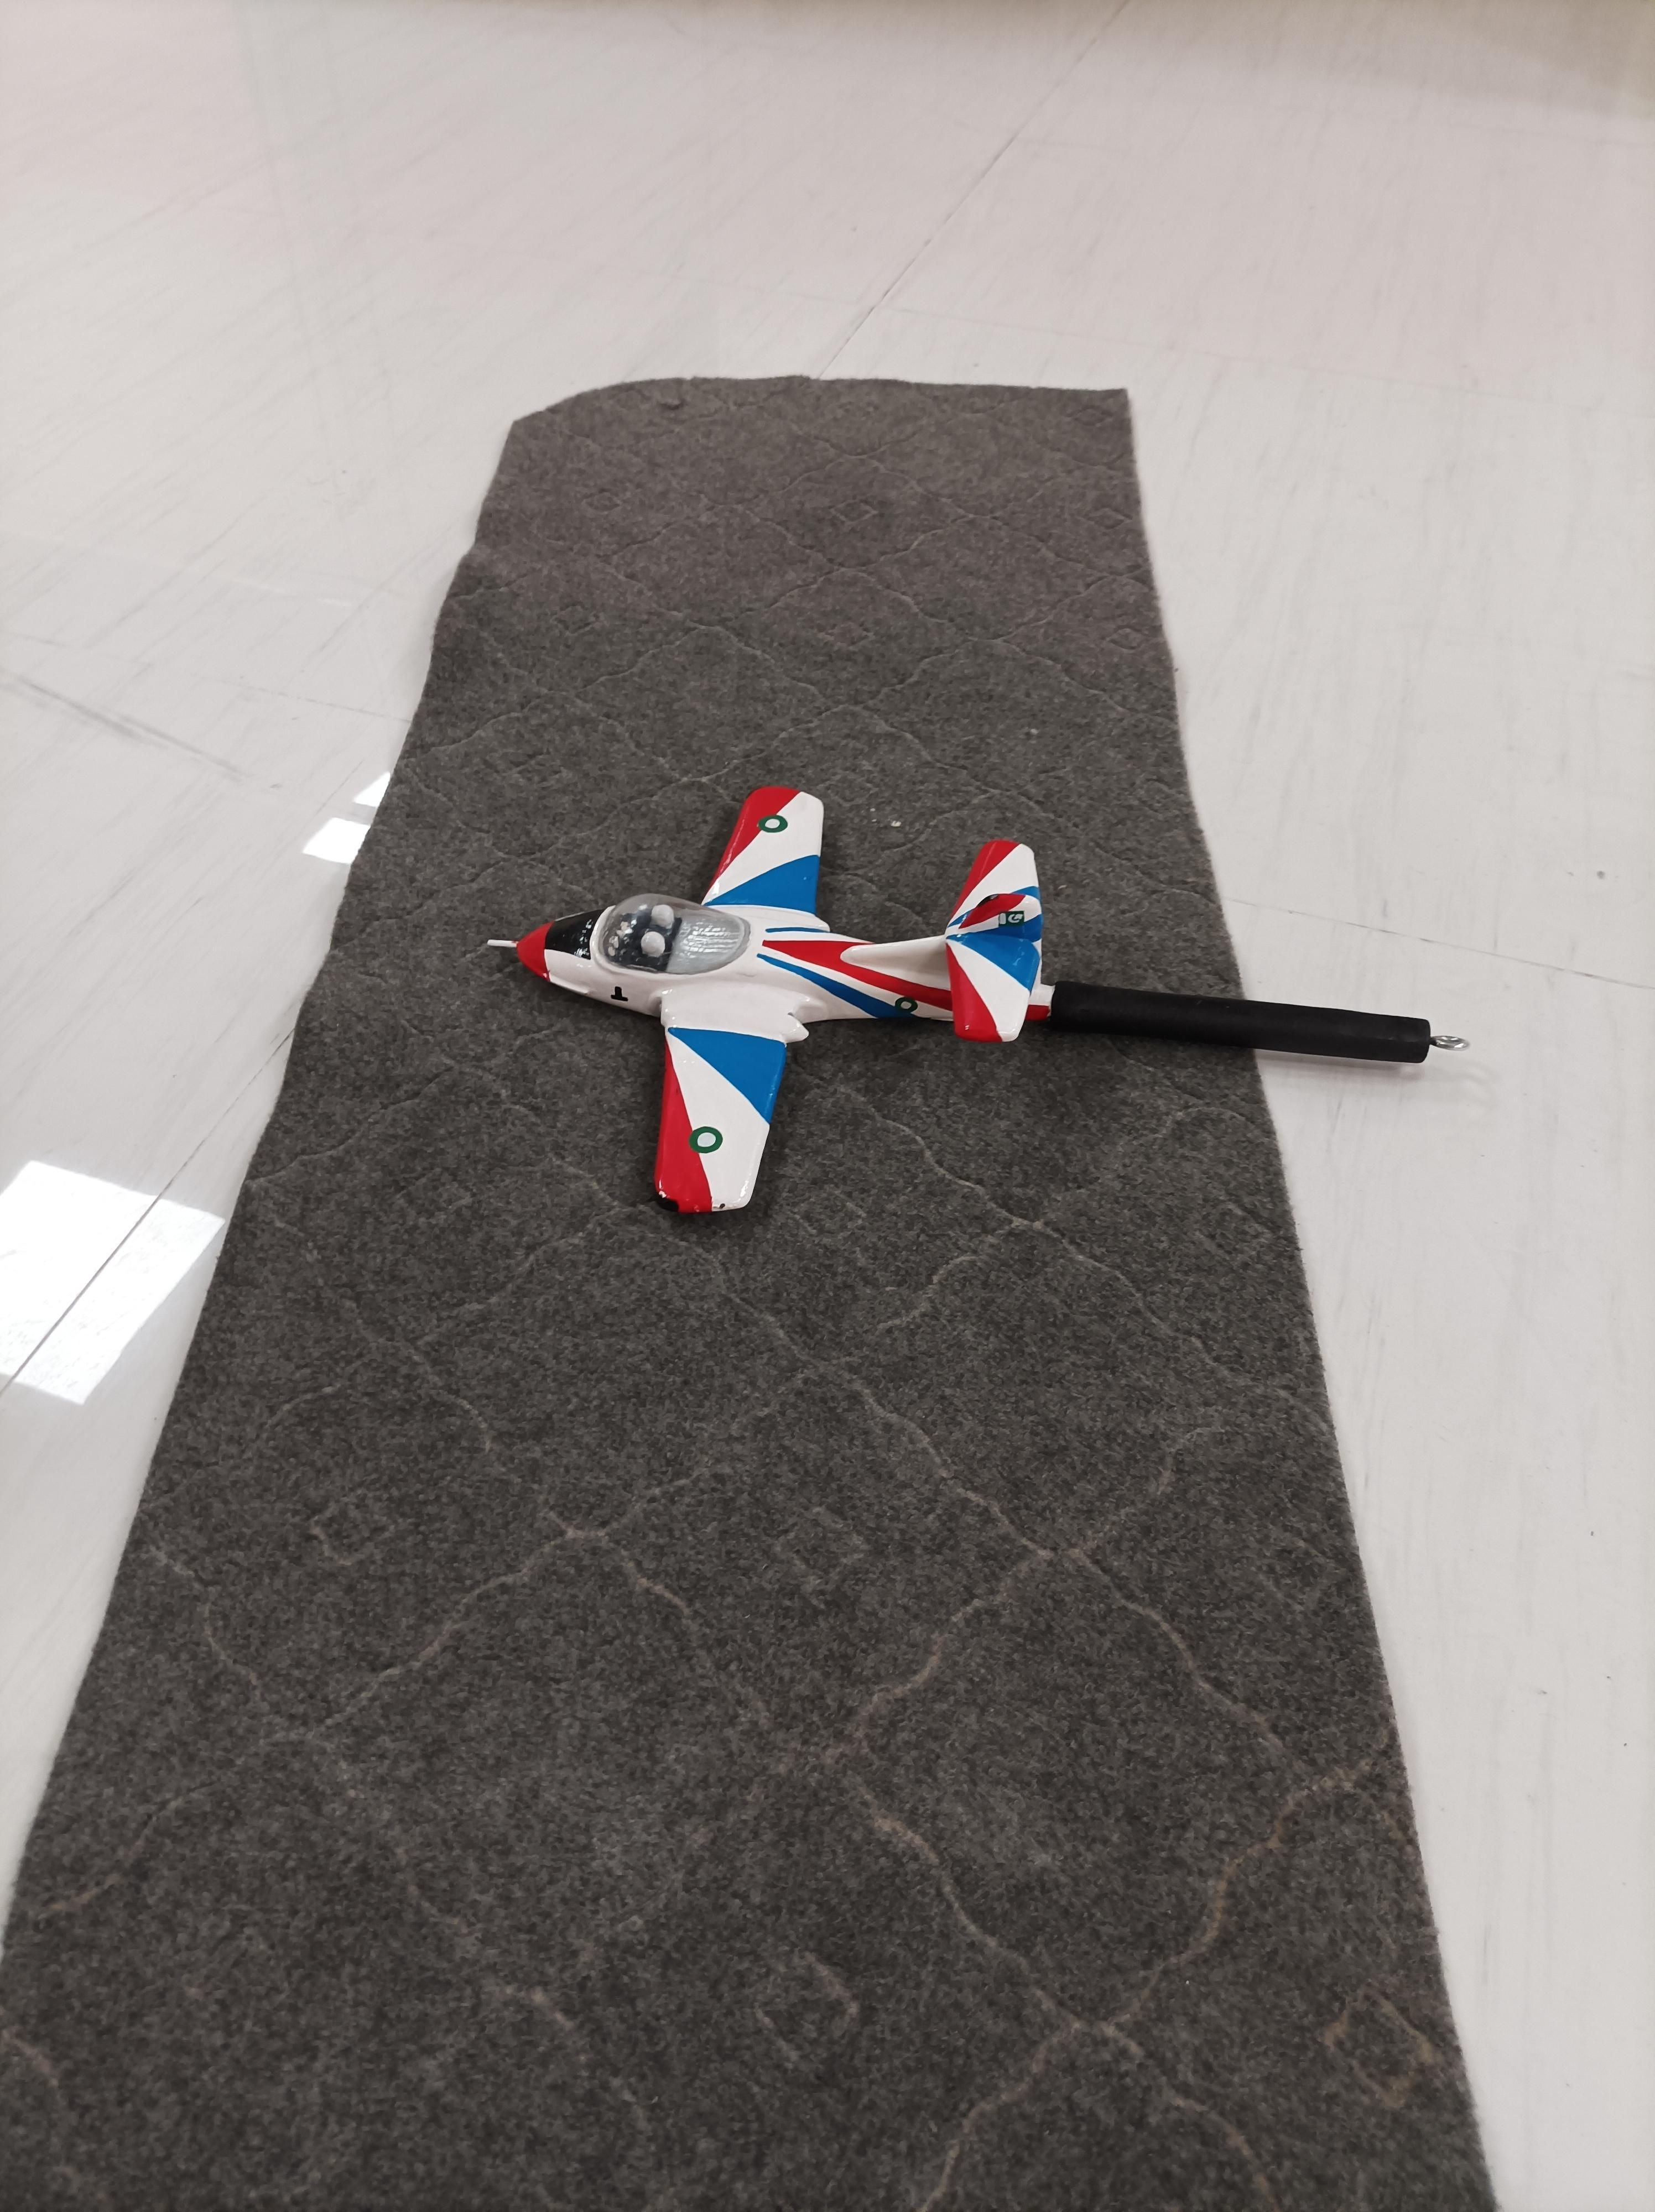Airplane: (464, 752, 1076, 1241)
